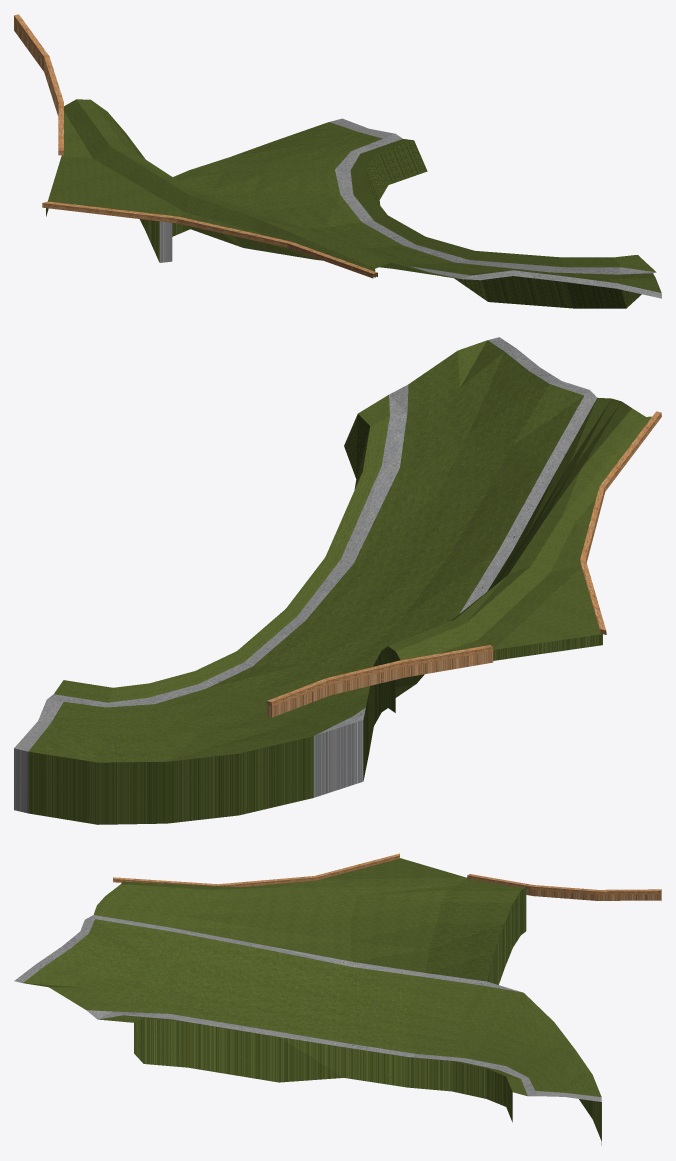
The model's file is park2a_sfw.obj.
3 renders of one model, top to bottom at view 1: azimuth 30°, elevation 25°; view 2: azimuth 150°, elevation 25°; view 3: azimuth 270°, elevation 25°, orthographic. The views are drawn at different scales.
Visible parts, largest first — view 1: park2a_sfw; view 2: park2a_sfw; view 3: park2a_sfw.
Boxes of the visible parts, x1=… form: park2a_sfw: x1=14, y1=14, x2=661, y2=308; park2a_sfw: x1=14, y1=337, x2=661, y2=824; park2a_sfw: x1=14, y1=853, x2=661, y2=1145.
Size of the model in its own units: 84.7 by 38.35 by 138.
3 materials, 3 textured.
